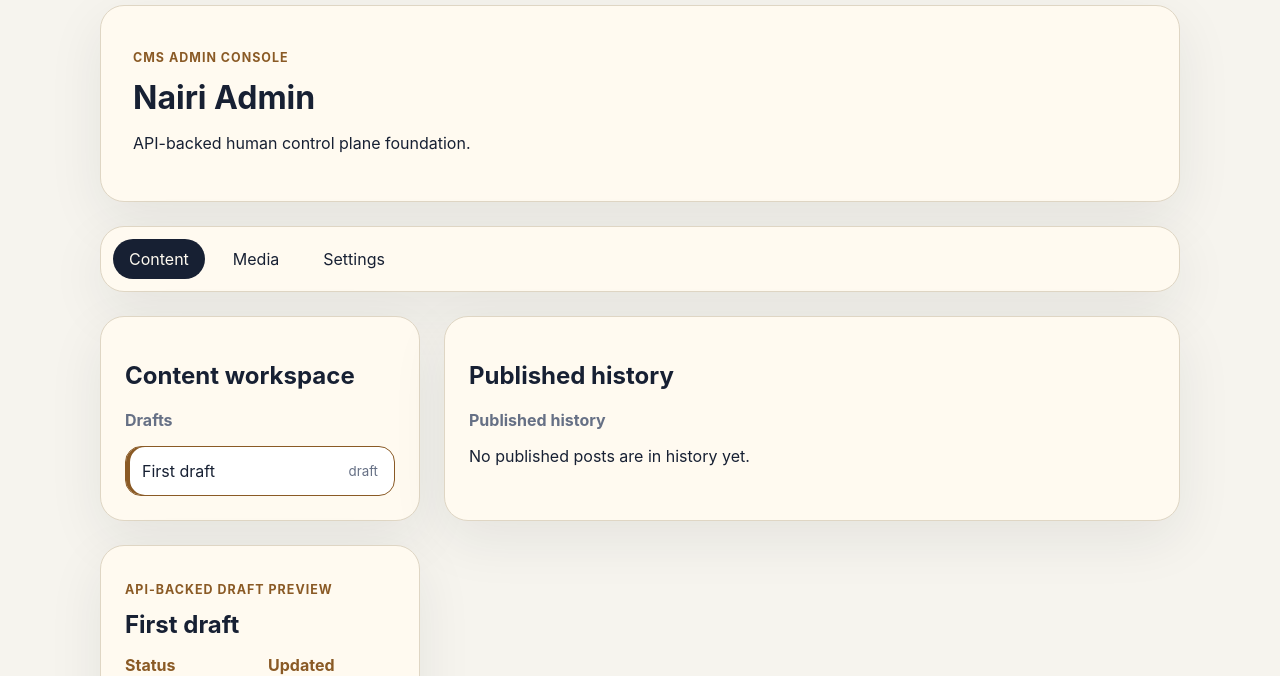
Test: Nairi admin console shell › clears a persisted publish review request after saving a new draft revision
Click the button "First draft draft" at (178, 471), box x1=125 y1=446 x2=395 y2=496
(page scrolled)
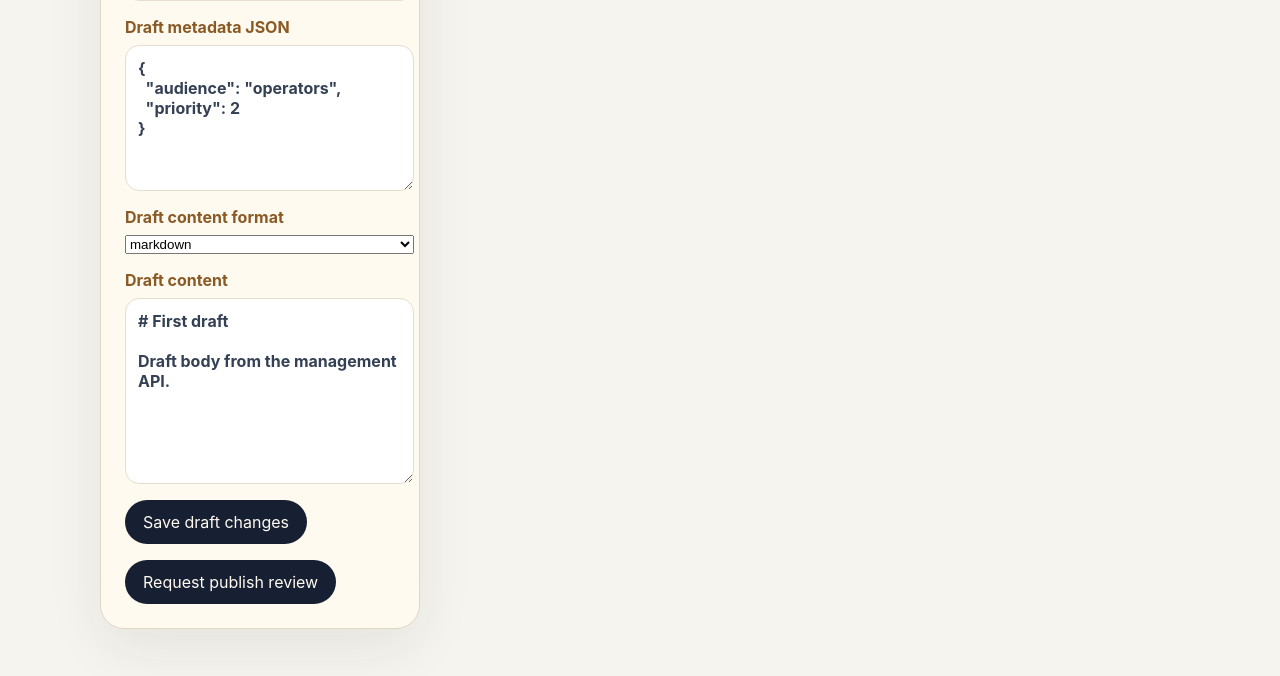
Click the button "Request publish review" at (231, 582), box x1=125 y1=560 x2=336 y2=604
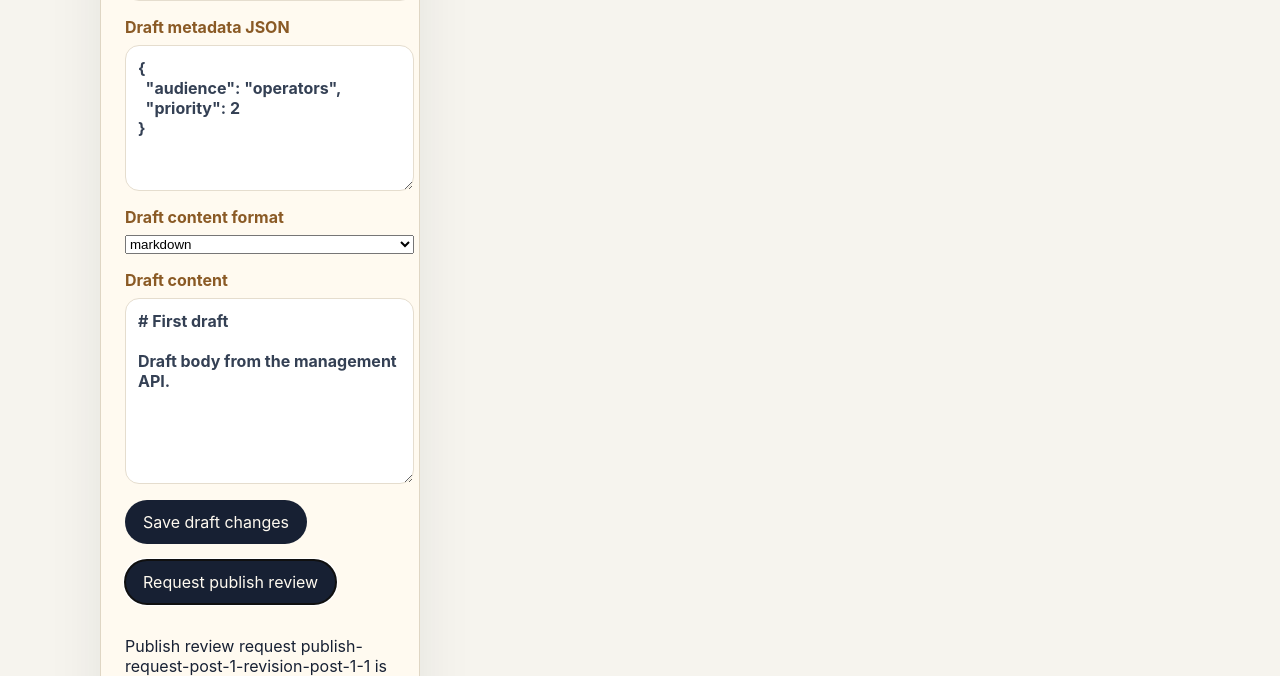
Click the button "Save draft changes" at (216, 522), box x1=125 y1=500 x2=307 y2=544
(page scrolled)
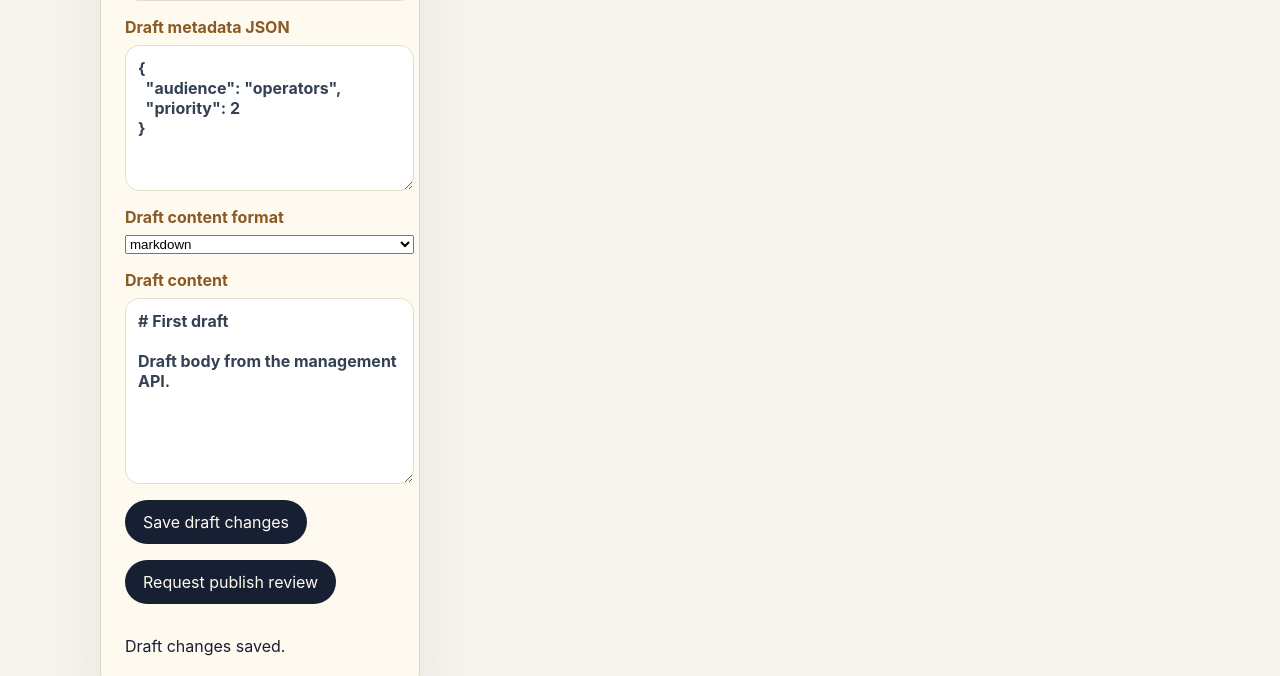
Expected: the text "Draft changes saved." is shown, x1=125 y1=636 x2=285 y2=656
